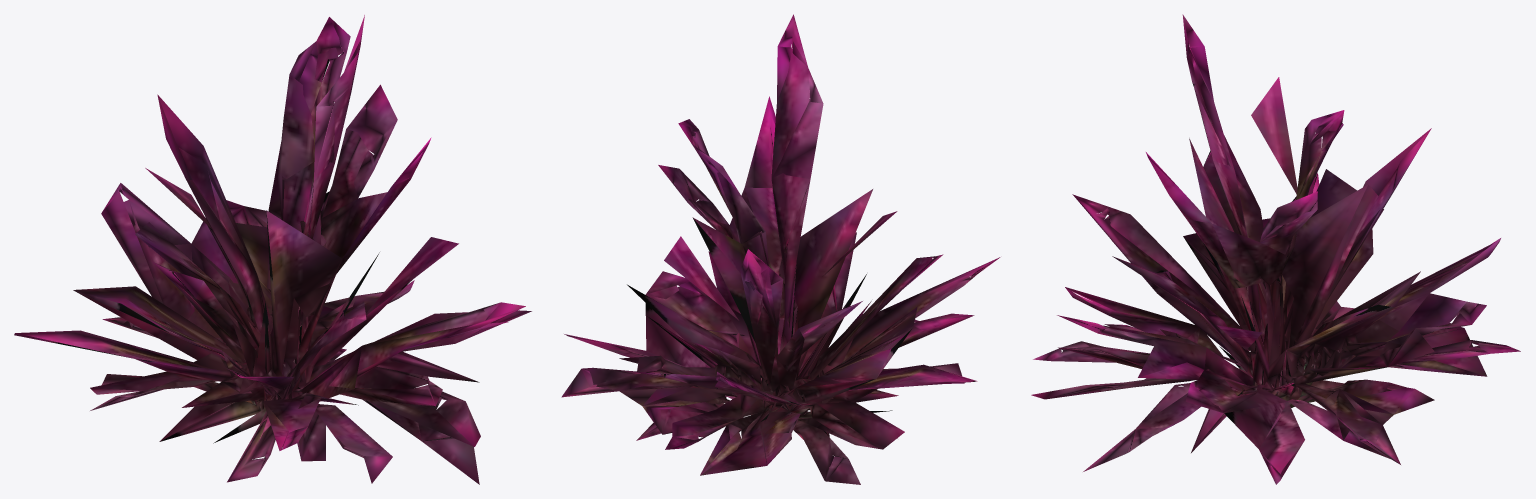
The model's file is plant_crimsonfern.glb.
3 renders of one model, left to right at view 1: azimuth 30°, elevation 25°; view 2: azimuth 150°, elevation 25°; view 3: azimuth 270°, elevation 25°, orthographic. The views are drawn at different scales.
Visible parts, largest first — view 1: lo; view 2: lo; view 3: lo.
Part boxes in pixels (x1,y1,x2,y2): lo: (14,15,531,484); lo: (561,14,1000,484); lo: (1031,14,1520,484).
Size of the model in its own units: 1.85 by 1.59 by 1.65.
1 material, 1 textured.
